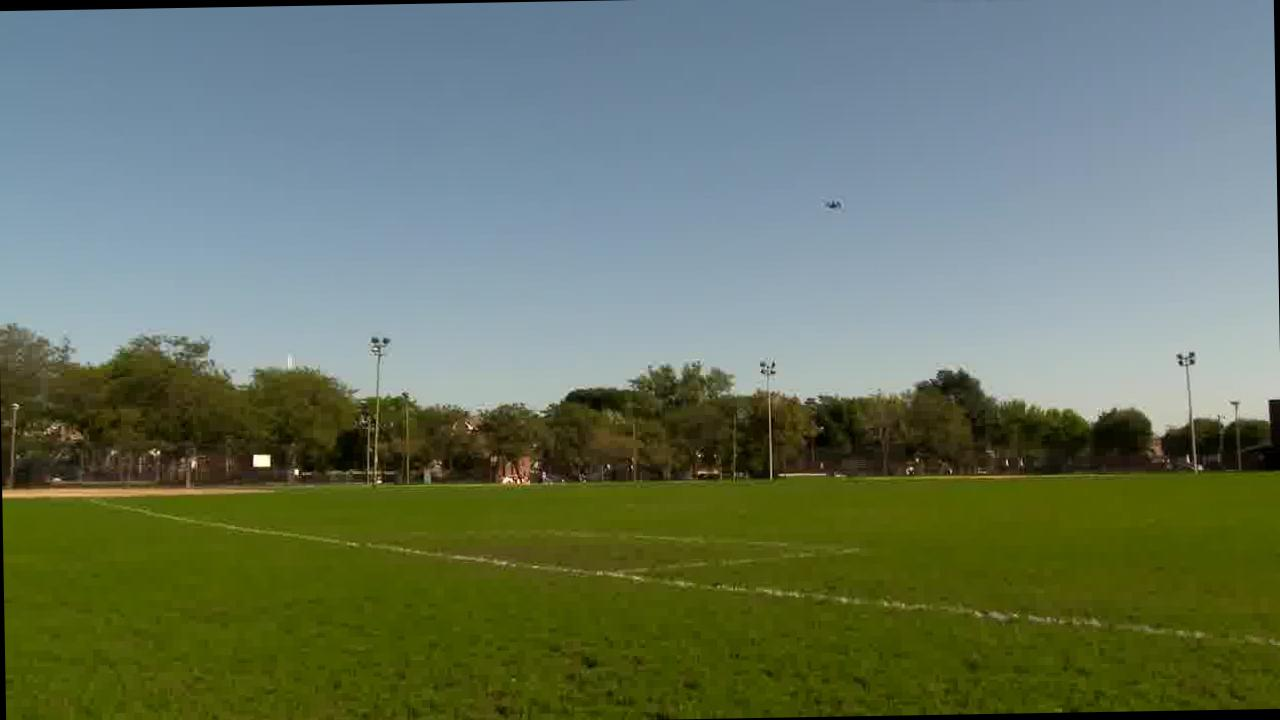drone: (817, 186, 853, 216)
